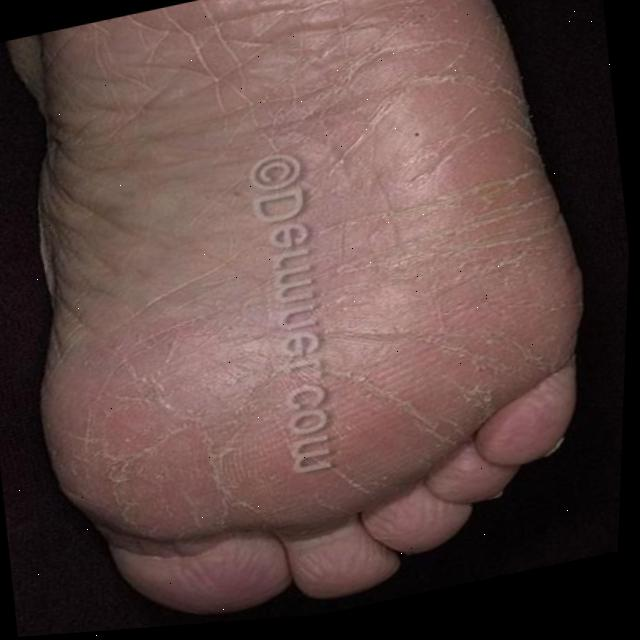Eczema: (14, 0, 616, 557)
